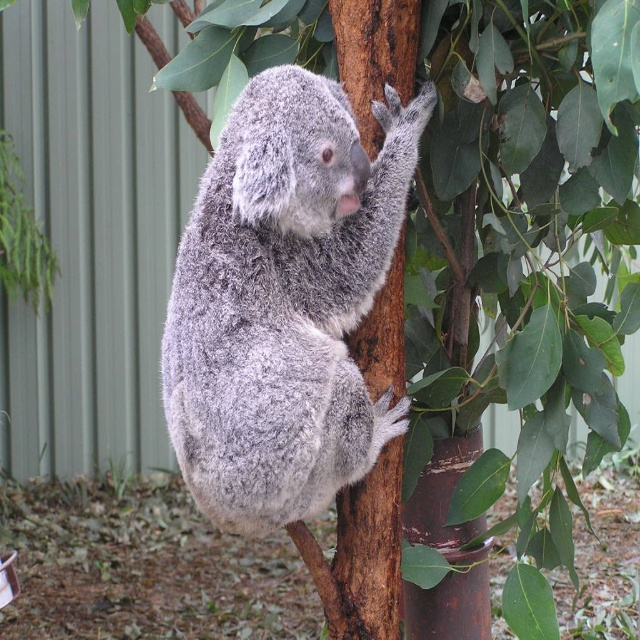Koala: (161, 61, 441, 536)
